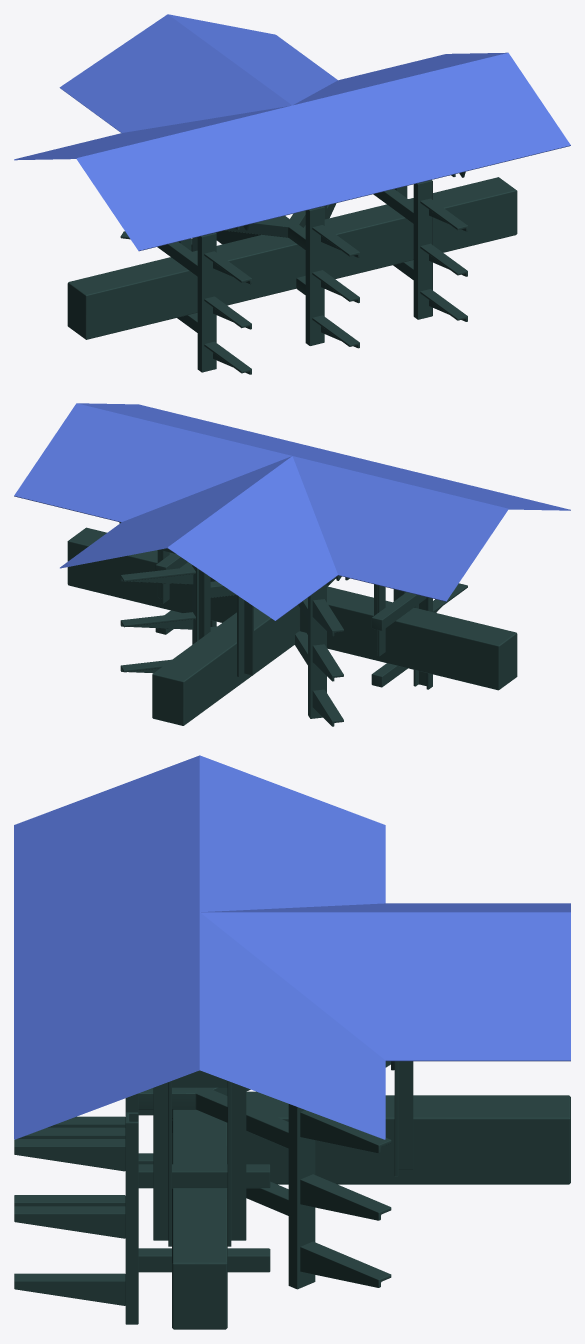
File: SM_Type_T.fbx
3 views of the same model, one above another, from view 1: azimuth 30°, elevation 25°; view 2: azimuth 150°, elevation 25°; view 3: azimuth 270°, elevation 25° (orthographic). The views are drawn at different scales.
Parts seen in each view (by area): view 1: SM_Type_T_LOD0; view 2: SM_Type_T_LOD0; view 3: SM_Type_T_LOD0.
Part boxes in pixels (x1,y1,x2,y2): SM_Type_T_LOD0: (14, 14, 570, 374); SM_Type_T_LOD0: (14, 403, 570, 726); SM_Type_T_LOD0: (14, 755, 570, 1329).
Size of what is drawn, in the model's own units: 200 by 97.69 by 150.
